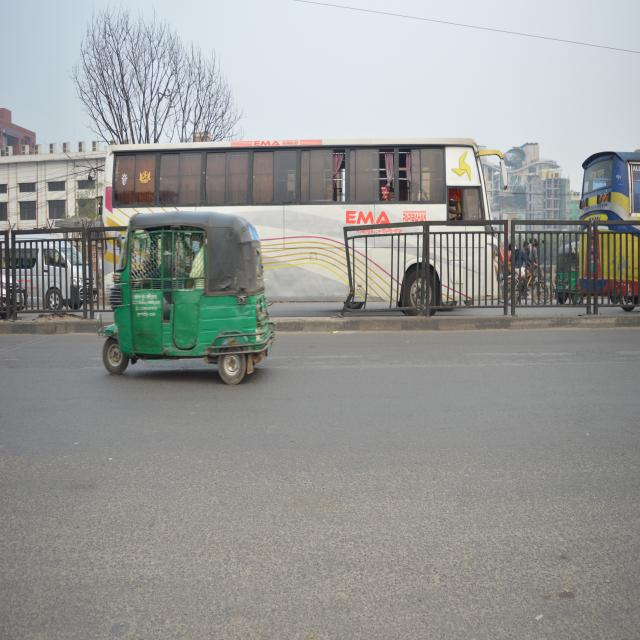bus: (88, 135, 508, 326), (568, 135, 640, 309)
microbus: (0, 220, 96, 310)
